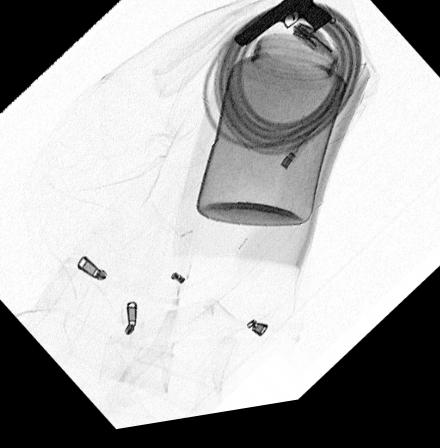Gun: (232, 0, 332, 53)
